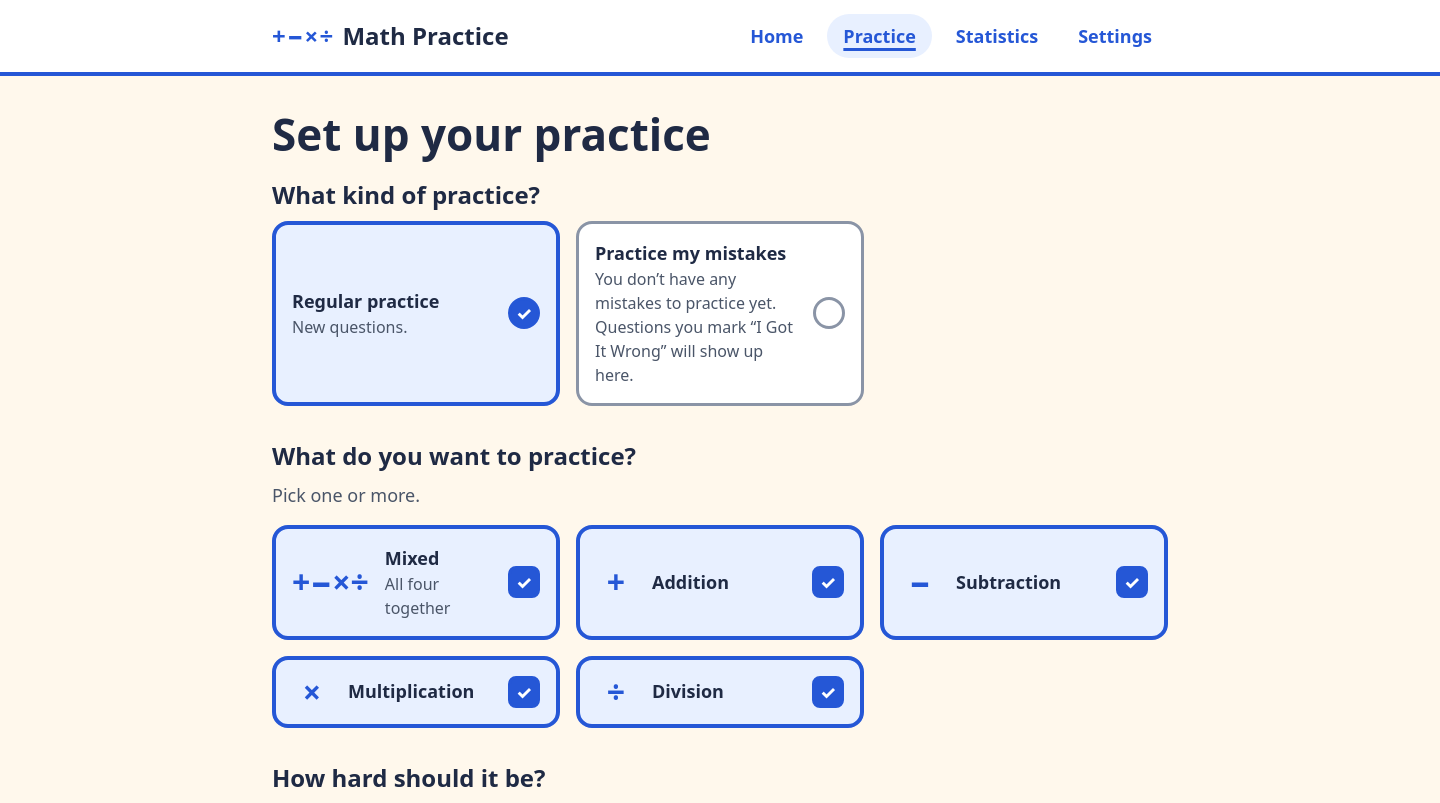
Scenario: Practice setup page › operations › ticking the last missing operation also ticks Mixed
Click the checkbox labelled "+ Addition ✓" at (720, 582), box [576, 525, 864, 640]
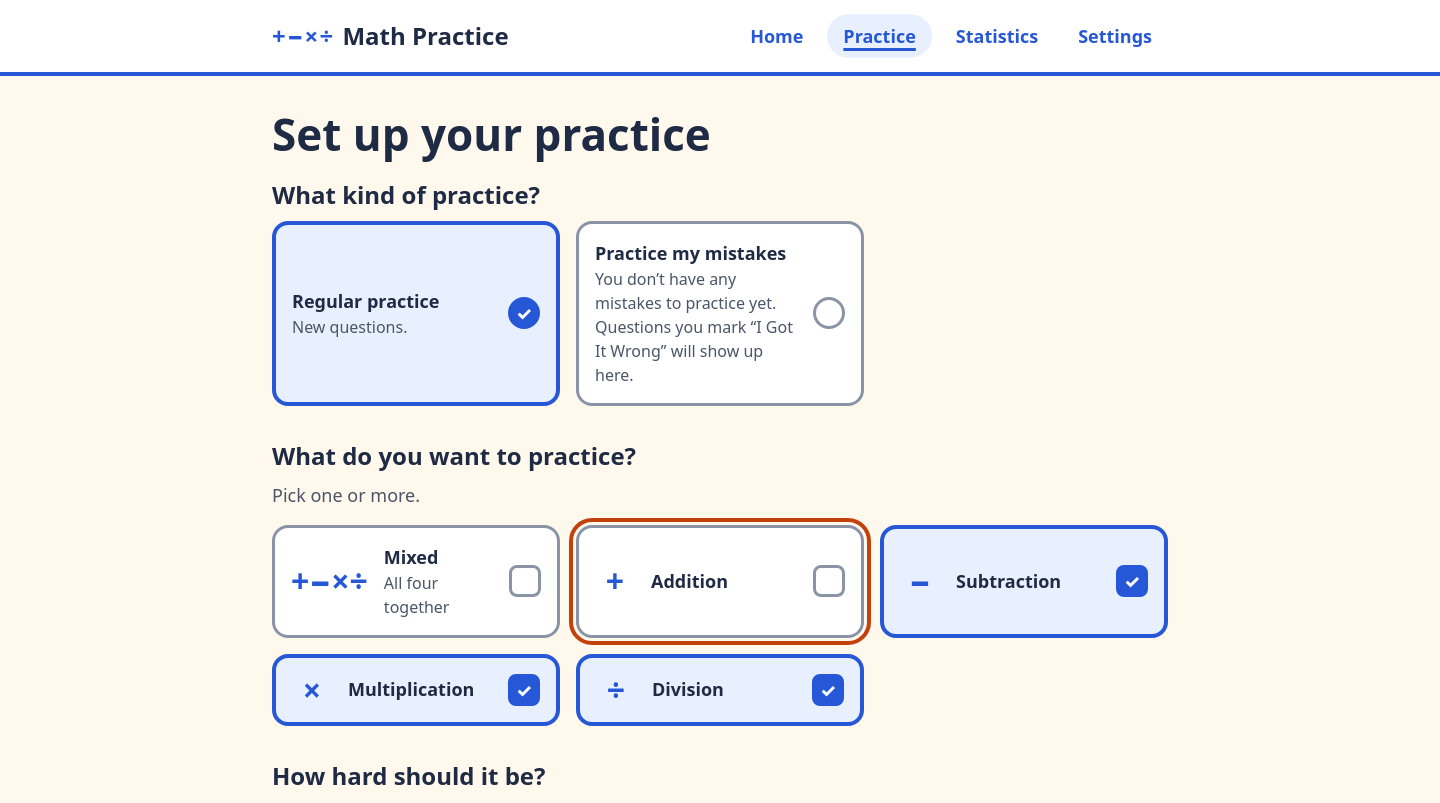
Now the checkbox labelled "+−×÷ Mixed All four together ✓" is not checked, box [272, 525, 560, 638]
Click the checkbox labelled "+ Addition ✓" at (720, 581), box [576, 525, 864, 638]
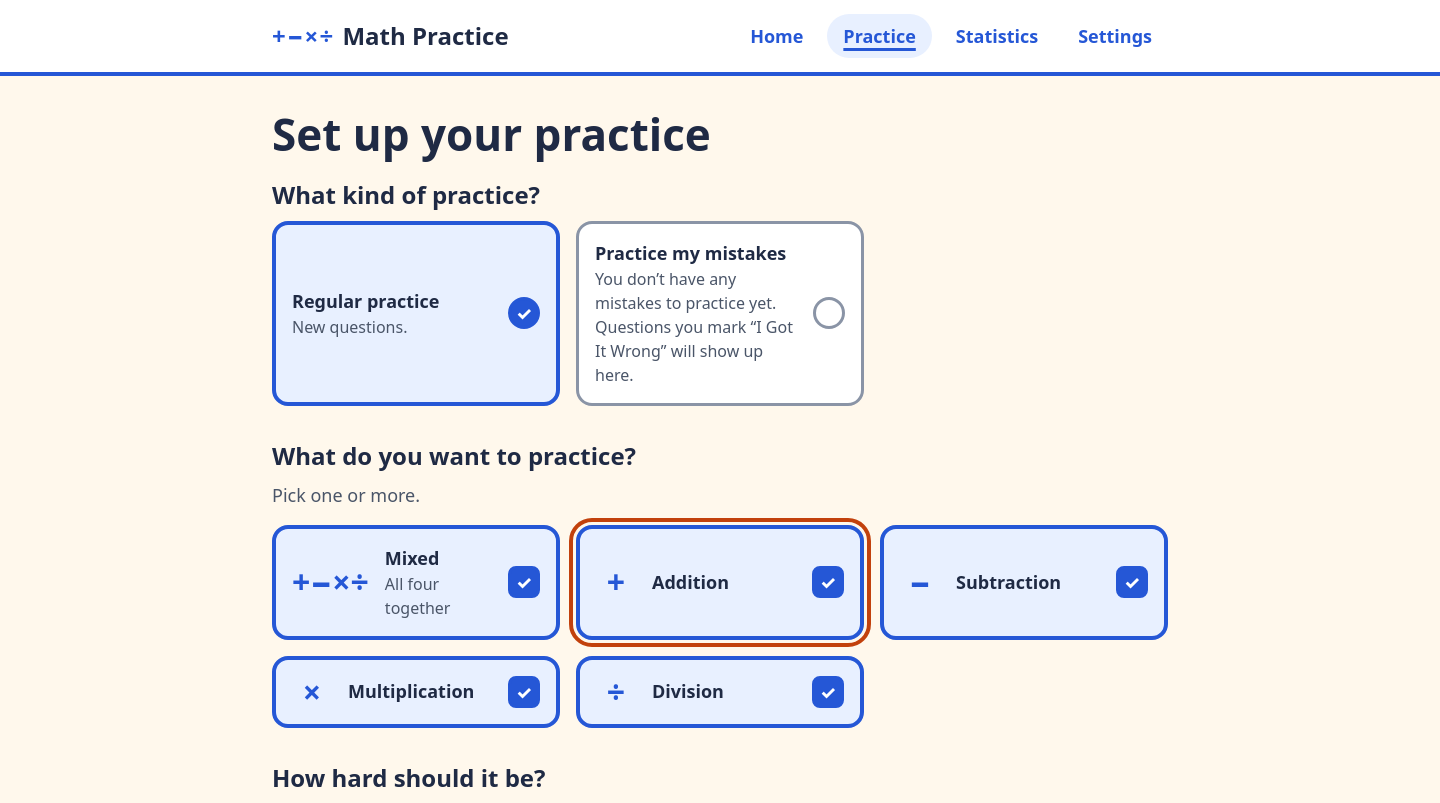
Now the checkbox labelled "+−×÷ Mixed All four together ✓" is checked, box [272, 525, 560, 640]
